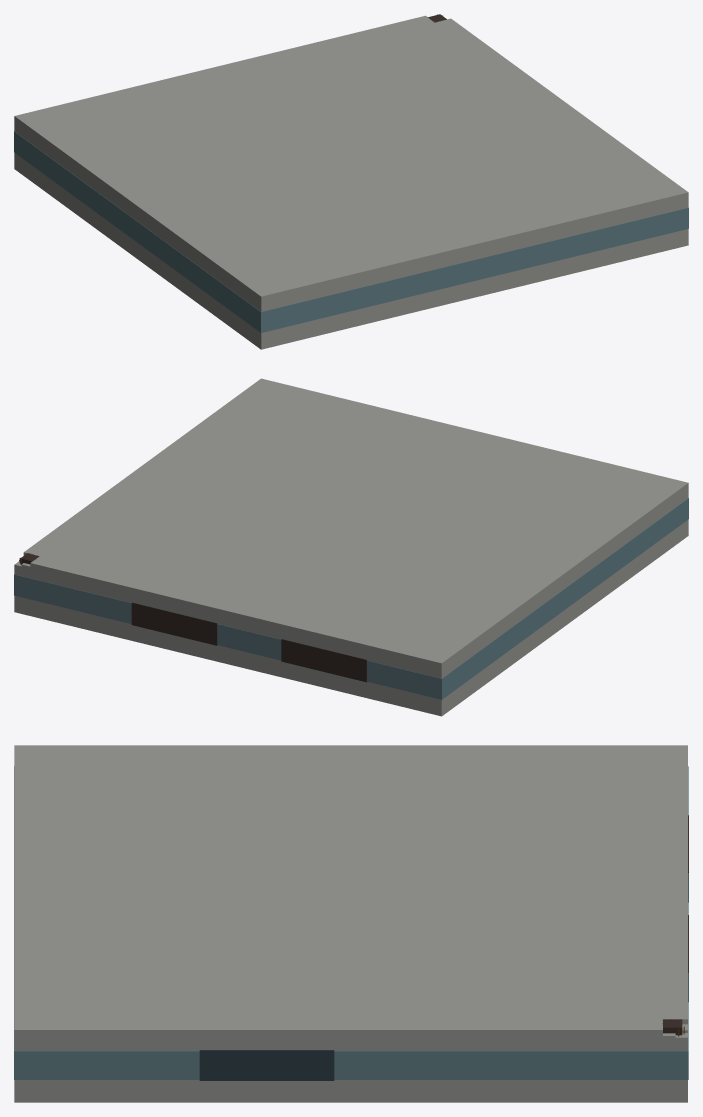
File: tw_slab_32_floor_c_lod1.glb
3 views of the same model, one above another, from view 1: azimuth 30°, elevation 25°; view 2: azimuth 150°, elevation 25°; view 3: azimuth 270°, elevation 25° (orthographic). The views are drawn at different scales.
Parts seen in each view (by area): view 1: tw_slab_32_floor_c_lod1; view 2: tw_slab_32_floor_c_lod1; view 3: tw_slab_32_floor_c_lod1.
Boxes of the visible parts, <box> form: tw_slab_32_floor_c_lod1: <box>14,14,688,349</box>; tw_slab_32_floor_c_lod1: <box>14,378,688,716</box>; tw_slab_32_floor_c_lod1: <box>14,745,688,1102</box>.
Size of the model in its own units: 32.06 by 3.8 by 32.06.
2 materials, 2 textured.
